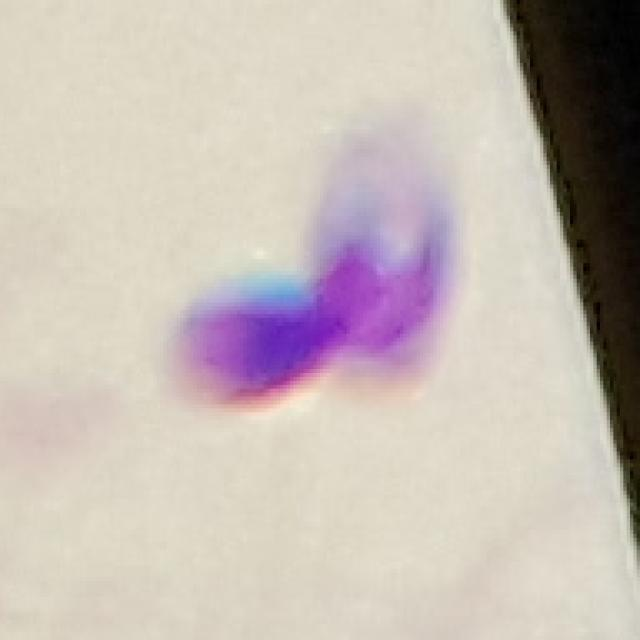non-sperm: (158, 190, 480, 408)
